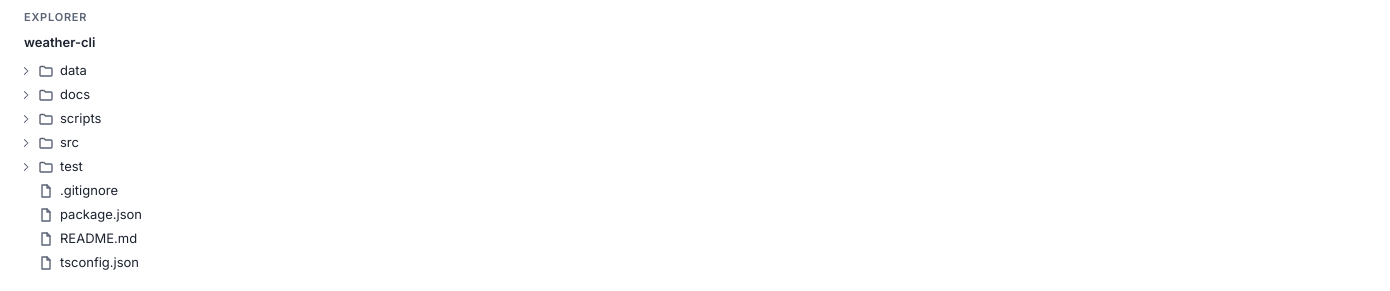
Test case: ExplorerContextMenu › the empty explorer area targets the workspace root; rename and delete are unavailable there
Expected: the button with test id "tree-row-package.json" is shown, [12, 203, 1378, 227]
Right-click the element with test id "explorer-body" at (695, 167), box [12, 59, 1378, 275]
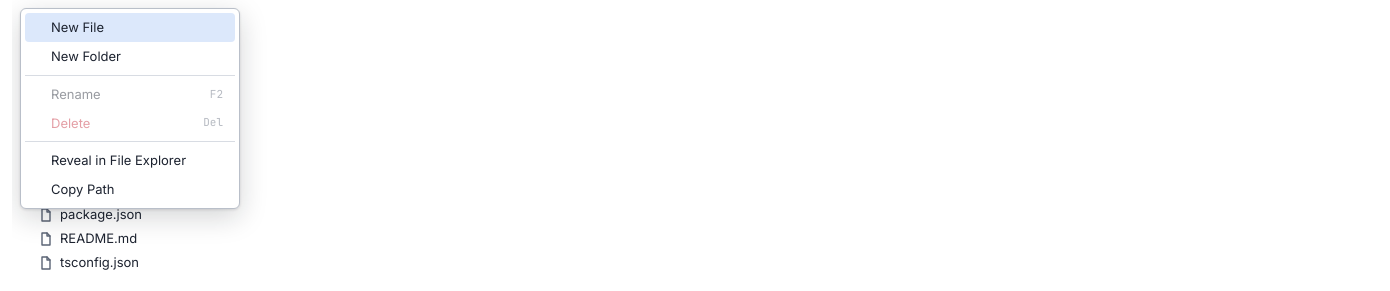
Result: the menu item with test id "ctx-rename" is disabled at [25, 80, 235, 108]
Result: the menu item with test id "ctx-delete" is disabled at [25, 108, 235, 137]
Result: the menu item with test id "ctx-new-file" is enabled at [25, 13, 235, 42]
